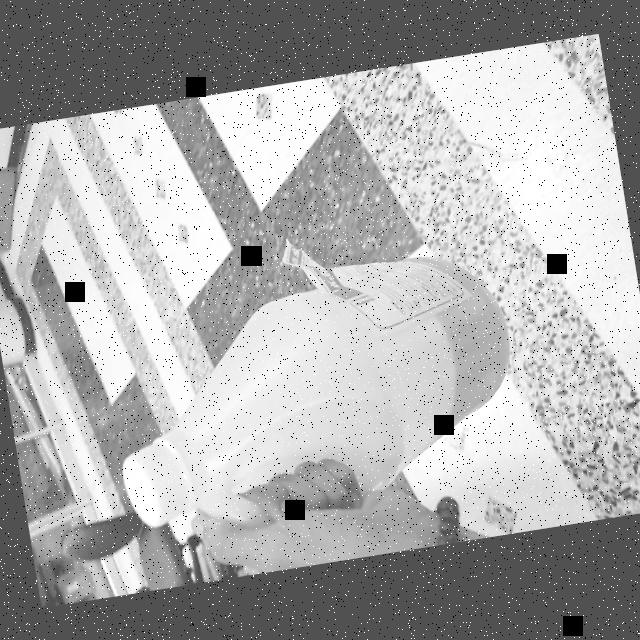chemical_plastic_gallon: (90, 242, 534, 550)
